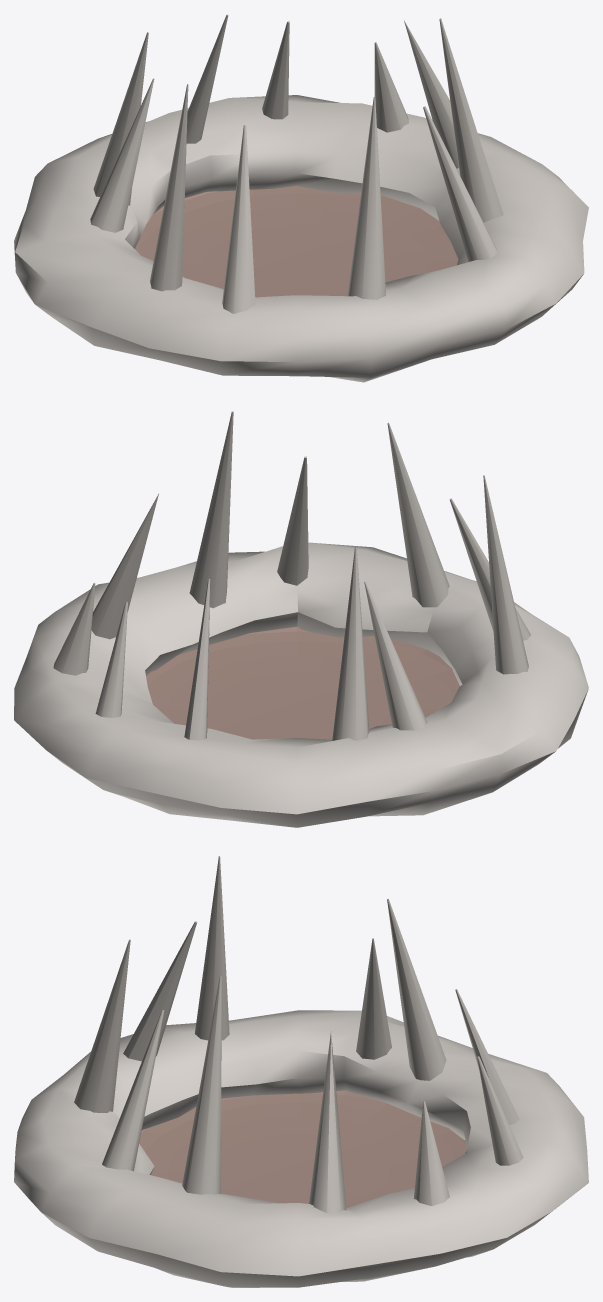
The model's file is SM_HiveBreach.glb.
3 renders of one model, top to bottom at view 1: azimuth 30°, elevation 25°; view 2: azimuth 150°, elevation 25°; view 3: azimuth 270°, elevation 25°, orthographic.
Parts seen in each view (by area): view 1: SM_HiveBreach; view 2: SM_HiveBreach; view 3: SM_HiveBreach.
Part boxes in pixels (x1=…): SM_HiveBreach: x1=14, y1=14, x2=588, y2=382; SM_HiveBreach: x1=14, y1=411, x2=588, y2=827; SM_HiveBreach: x1=14, y1=856, x2=588, y2=1287.
Bounding box in the file's own units: 8.47 × 4.34 × 8.1.
